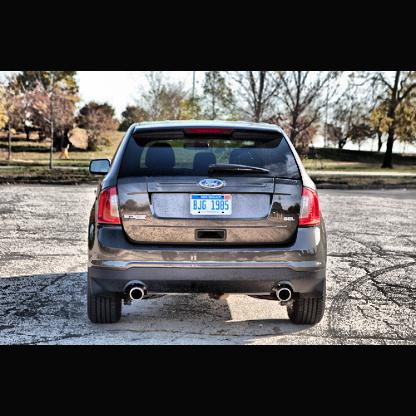Ford Edge SUV 2012: (90, 122, 329, 325)
